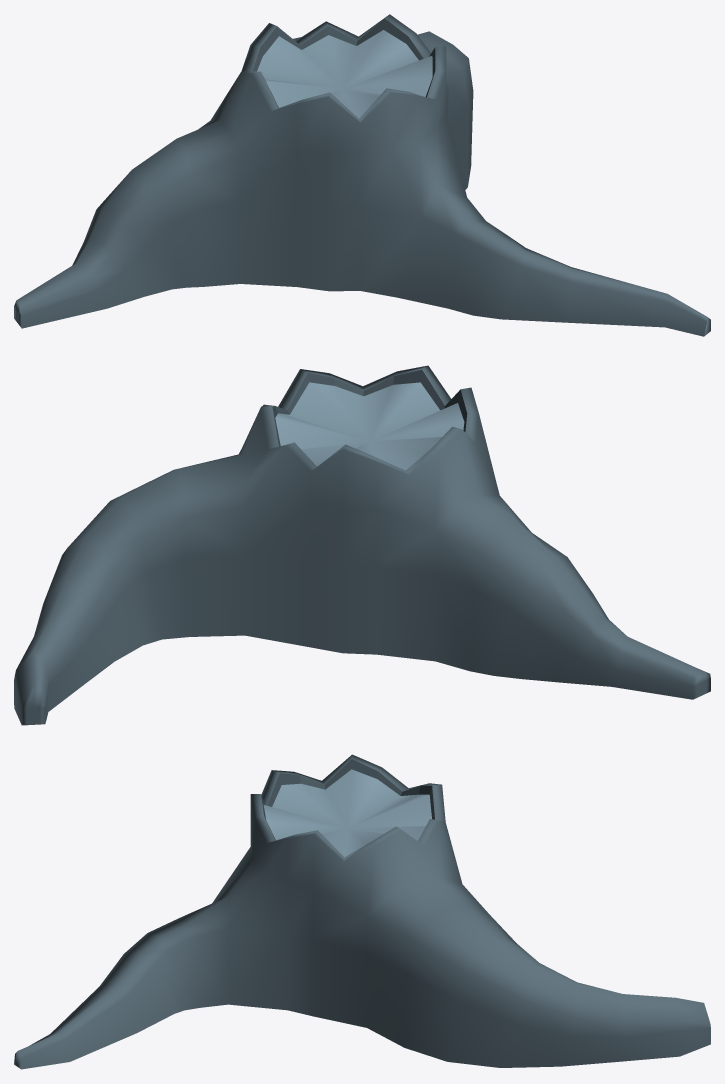
The model's file is Tronco2.fbx.
3 views of the same model, one above another, from view 1: azimuth 30°, elevation 25°; view 2: azimuth 150°, elevation 25°; view 3: azimuth 270°, elevation 25° (orthographic). The views are drawn at different scales.
Visible parts, largest first — view 1: Tronco2; view 2: Tronco2; view 3: Tronco2.
Part boxes in pixels (left/top/right/bottom): Tronco2: left=14, top=14, right=710, bottom=336; Tronco2: left=14, top=365, right=710, bottom=725; Tronco2: left=14, top=754, right=710, bottom=1069.
Size of the model in its own units: 380 by 138 by 467.
